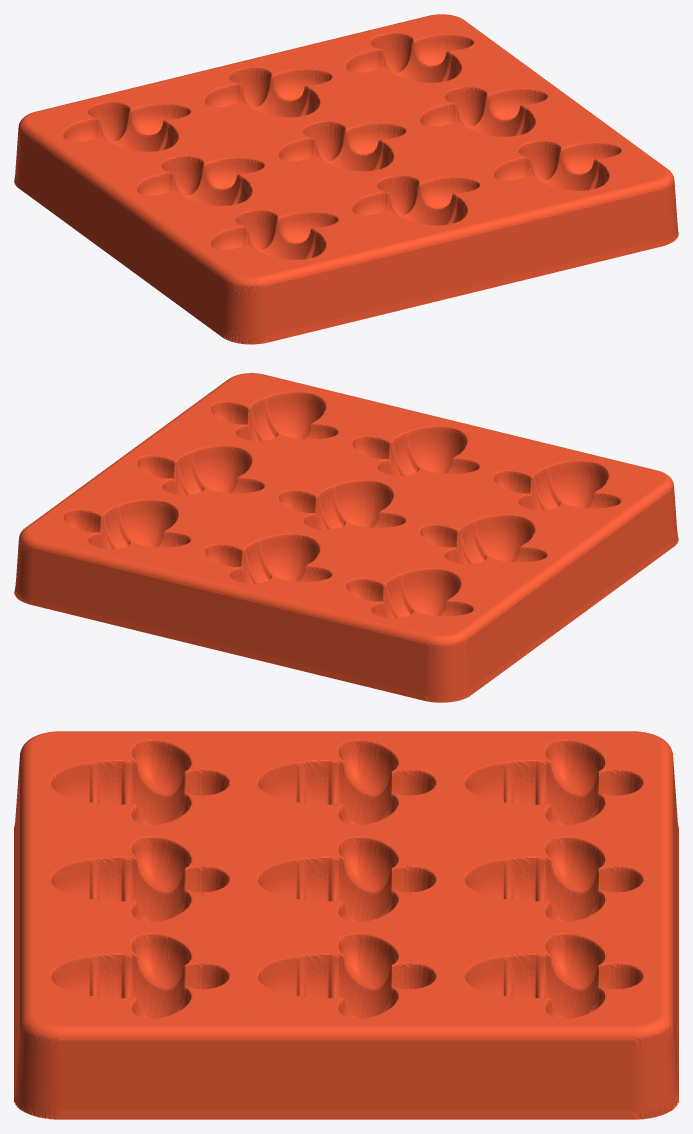
Rendered from mold.glb.
3 renders of one model, top to bottom at view 1: azimuth 30°, elevation 25°; view 2: azimuth 150°, elevation 25°; view 3: azimuth 270°, elevation 25°, orthographic. The views are drawn at different scales.
Visible parts, largest first — view 1: geometry_0; view 2: geometry_0; view 3: geometry_0.
Part boxes in pixels (x1=…): geometry_0: x1=14, y1=14, x2=678, y2=344; geometry_0: x1=14, y1=373, x2=678, y2=702; geometry_0: x1=14, y1=731, x2=678, y2=1119.
Size of the model in its own units: 0.1402 by 0.0182 by 0.1274.
